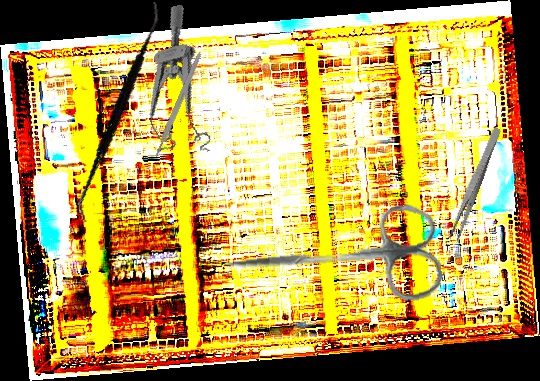Dressing Forceps: (447, 125, 503, 243)
Iris Scissors: (219, 200, 444, 318)
Scalpel Handle: (153, 52, 203, 158)
Spatula Surgical: (42, 0, 199, 224)
Speculum: (119, 3, 224, 166)
